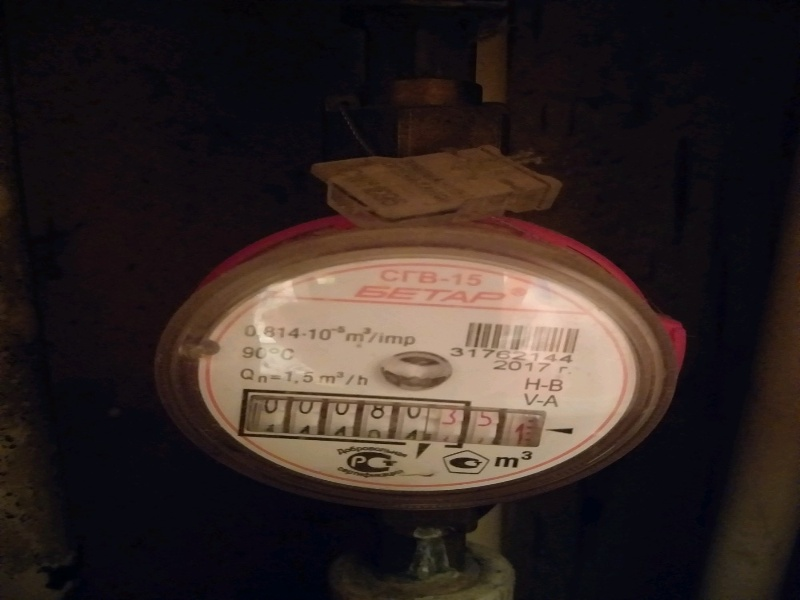meter: (247, 388, 525, 449)
